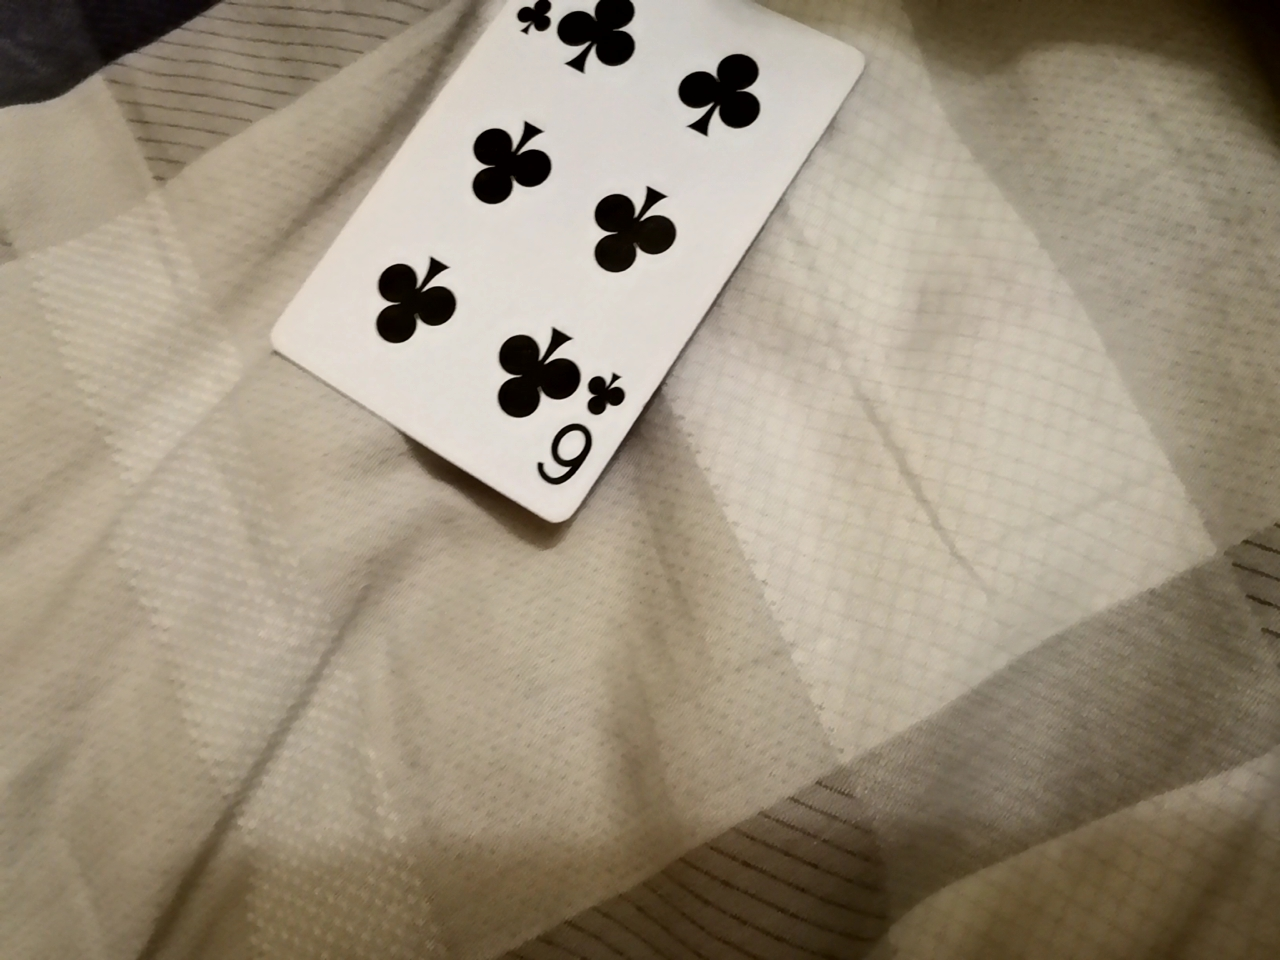mh 6: (265, 0, 844, 539)
